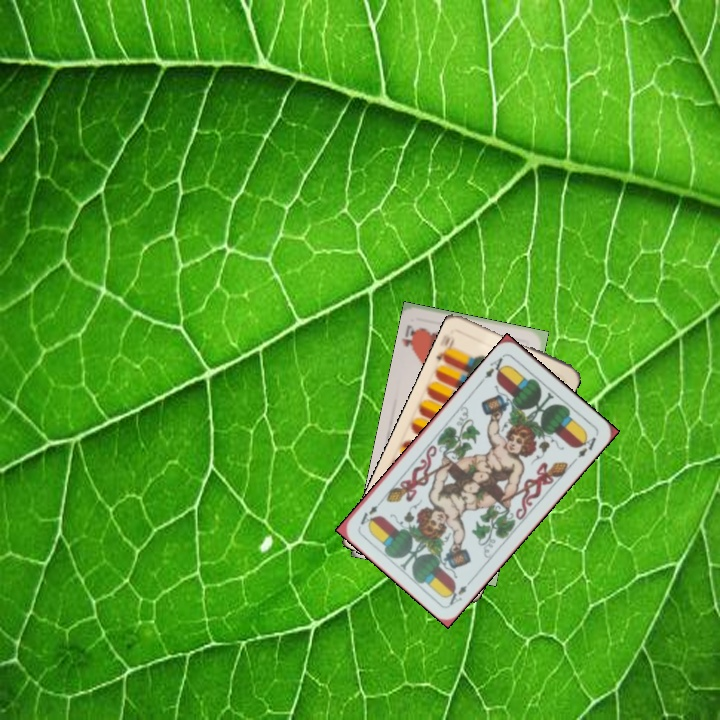E10: (432, 332, 458, 366)
EA: (477, 351, 510, 385), (443, 574, 476, 608)
HO: (398, 321, 422, 355)
